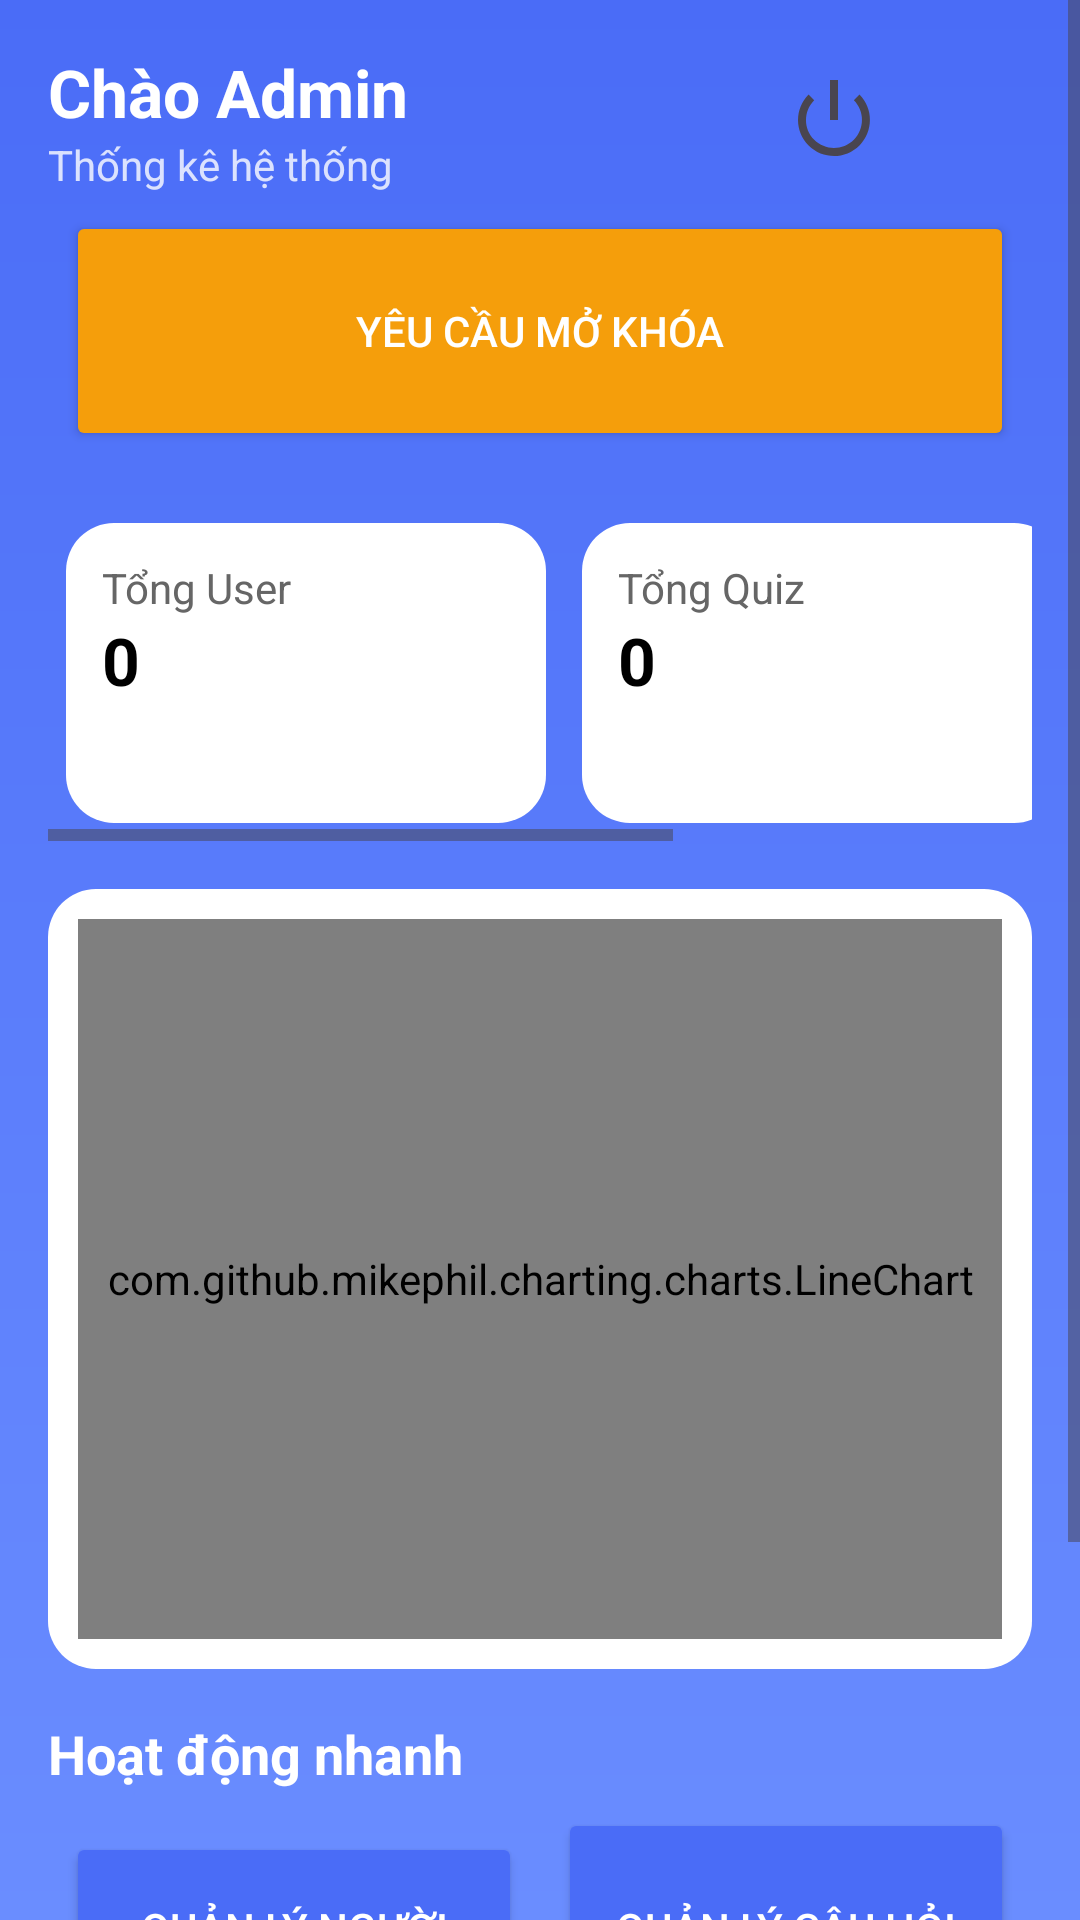

Where icons sit on this 1080 × 1920 app screen, as (x1, y1, x2, y2):
Đăng xuất: (798, 80, 870, 156)
